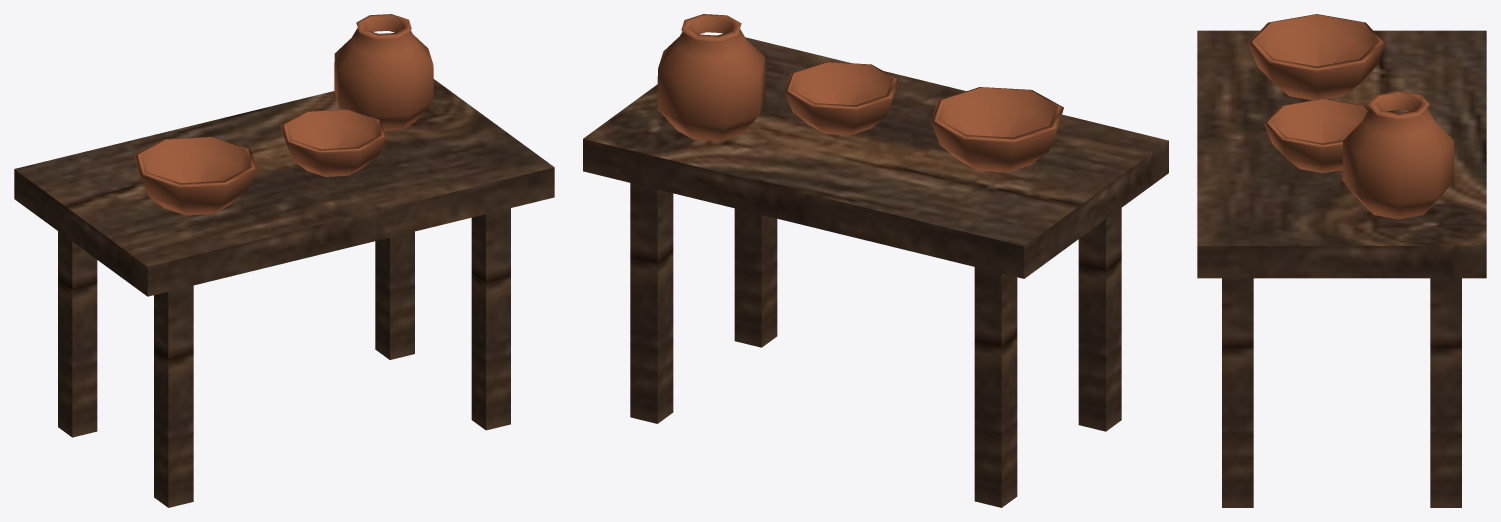
File: periodMeal.glb
3 renders of one model, left to right at view 1: azimuth 30°, elevation 25°; view 2: azimuth 150°, elevation 25°; view 3: azimuth 270°, elevation 25°, orthographic. The views are drawn at different scales.
Visible parts, largest first — view 1: part_1, part_0; view 2: part_1, part_0; view 3: part_1, part_0.
Boxes of the visible parts, x1,y1,x2,y2 form: part_1: (14,79,554,507); part_0: (134,14,433,215); part_1: (583,37,1168,507); part_0: (657,14,1063,172); part_1: (1197,30,1486,507); part_0: (1248,14,1454,219).
Bounding box in the file's own units: 0.81 × 0.6664 × 0.46.
2 materials, 1 textured.
